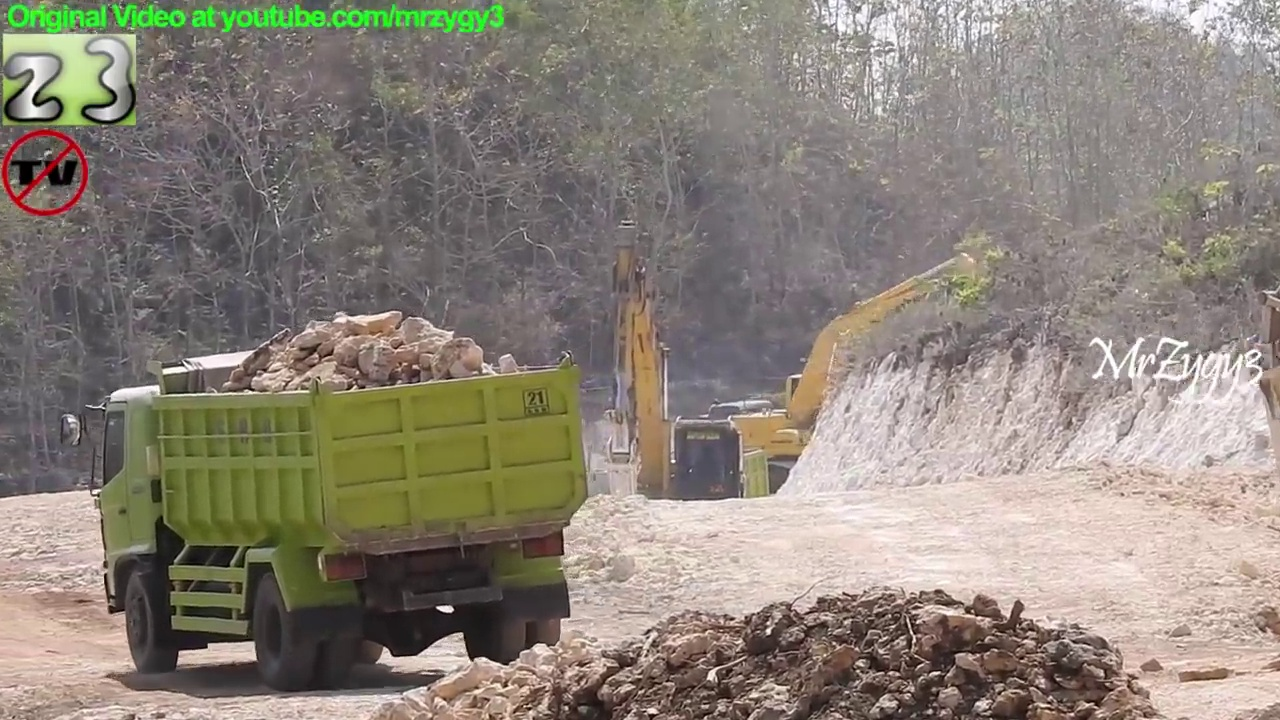excavator: (700, 240, 1010, 510), (575, 214, 743, 569)
truck: (58, 344, 598, 698), (655, 413, 789, 541)
